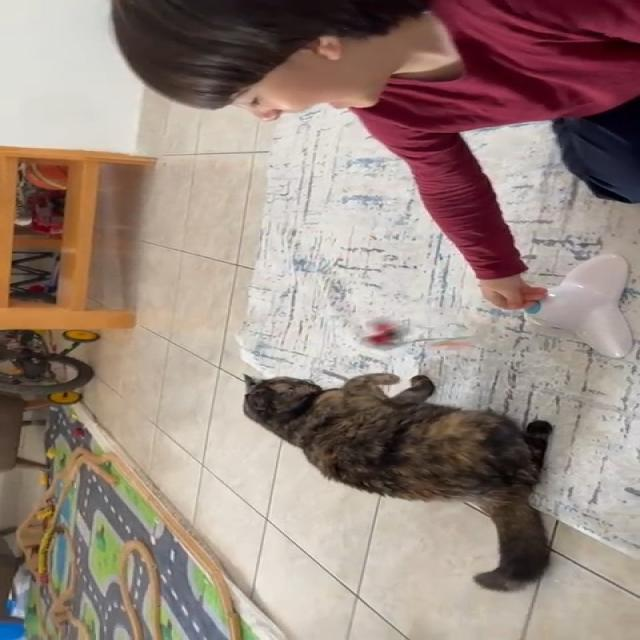authorized: (240, 371, 555, 592)
